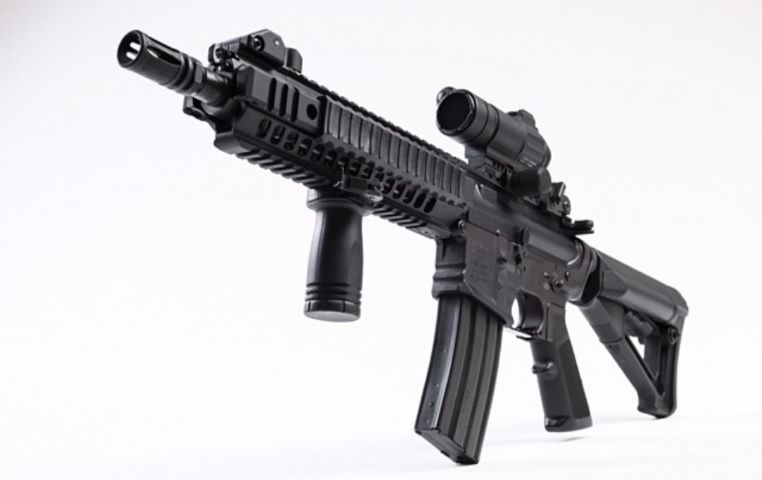rifle: (106, 23, 692, 469)
